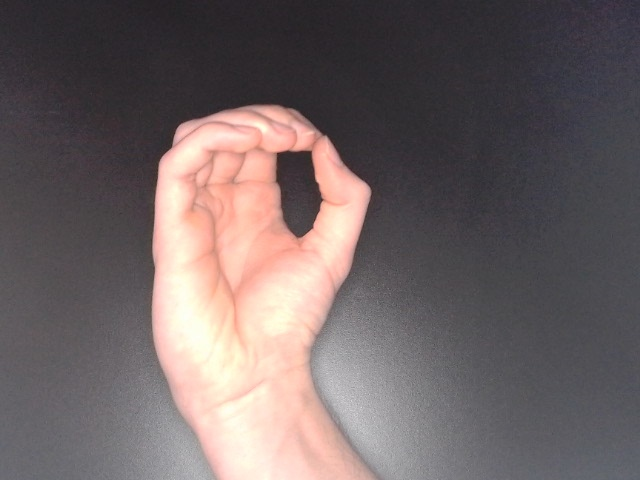o: (142, 98, 376, 435)
